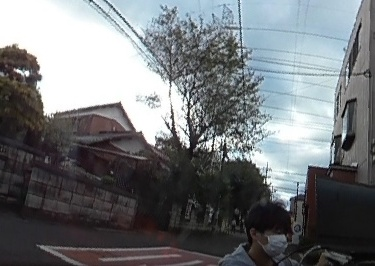person: (224, 201, 311, 266)
